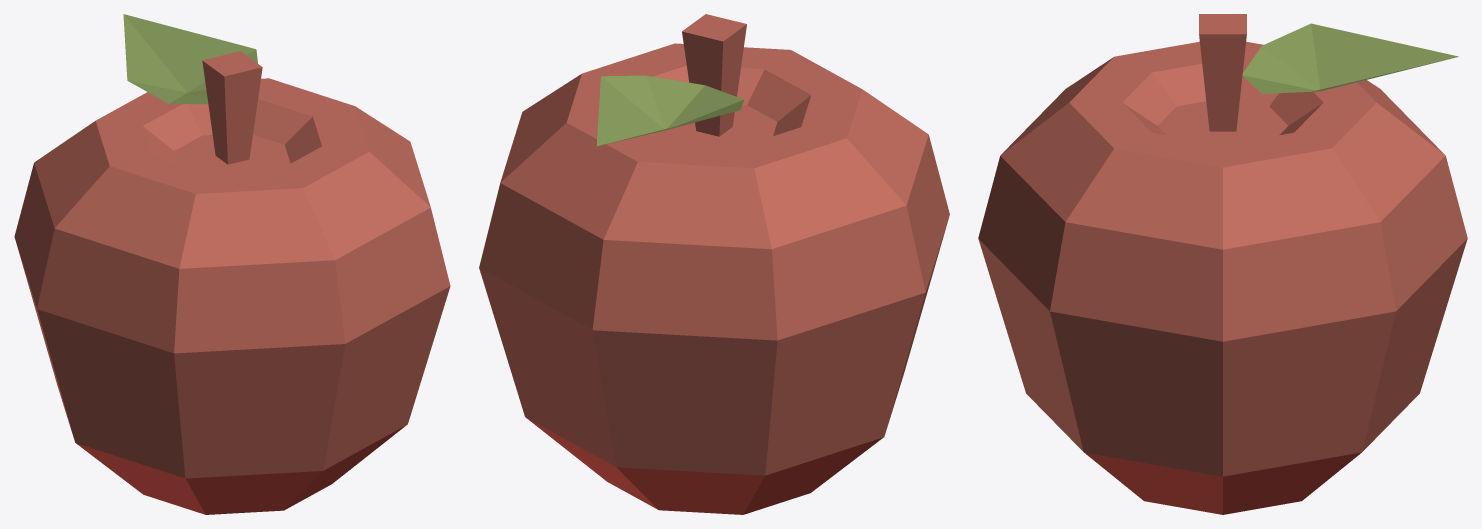
File: apple.glb
The picture shows the model from 3 angles, left to right: view 1: azimuth 30°, elevation 25°; view 2: azimuth 150°, elevation 25°; view 3: azimuth 270°, elevation 25°; orthographic projection. The views are drawn at different scales.
Bounding box in the file's own units: 1 × 1 × 1.
